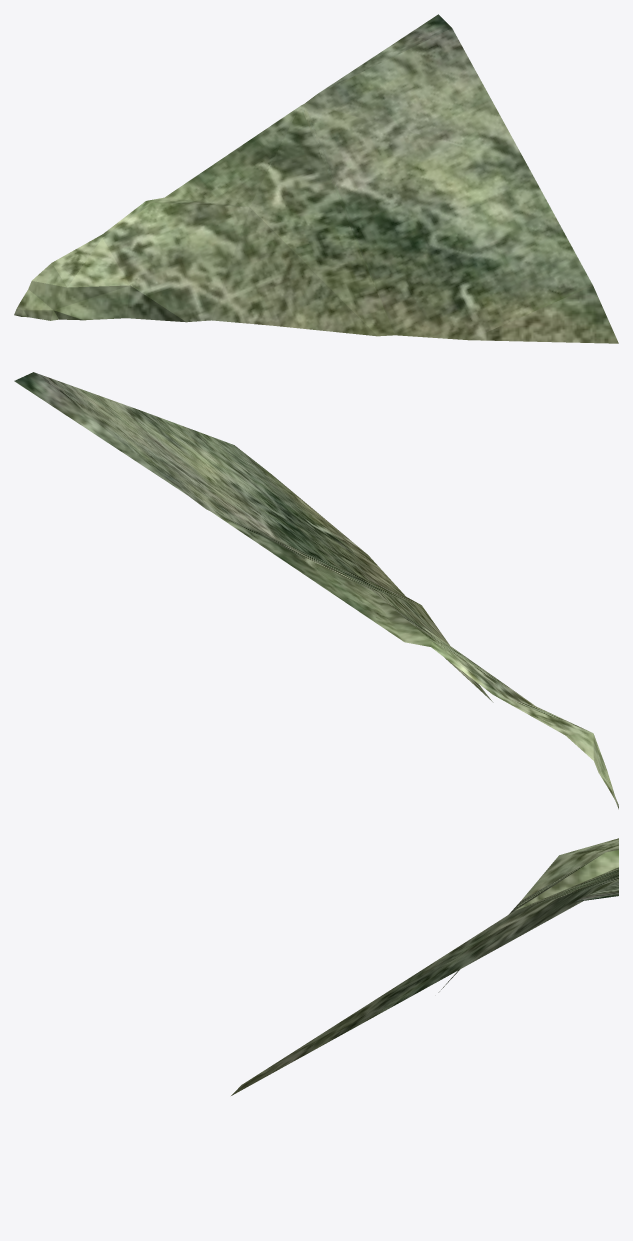
3 renders of one model, top to bottom at view 1: azimuth 30°, elevation 25°; view 2: azimuth 150°, elevation 25°; view 3: azimuth 270°, elevation 25°, orthographic. The views are drawn at different scales.
Size of the model in its own units: 5.62 by 2.5 by 4.14.
Materials: 1 (1 with a texture image).
